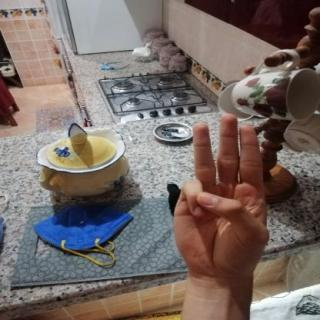THA: (159, 104, 280, 286)
